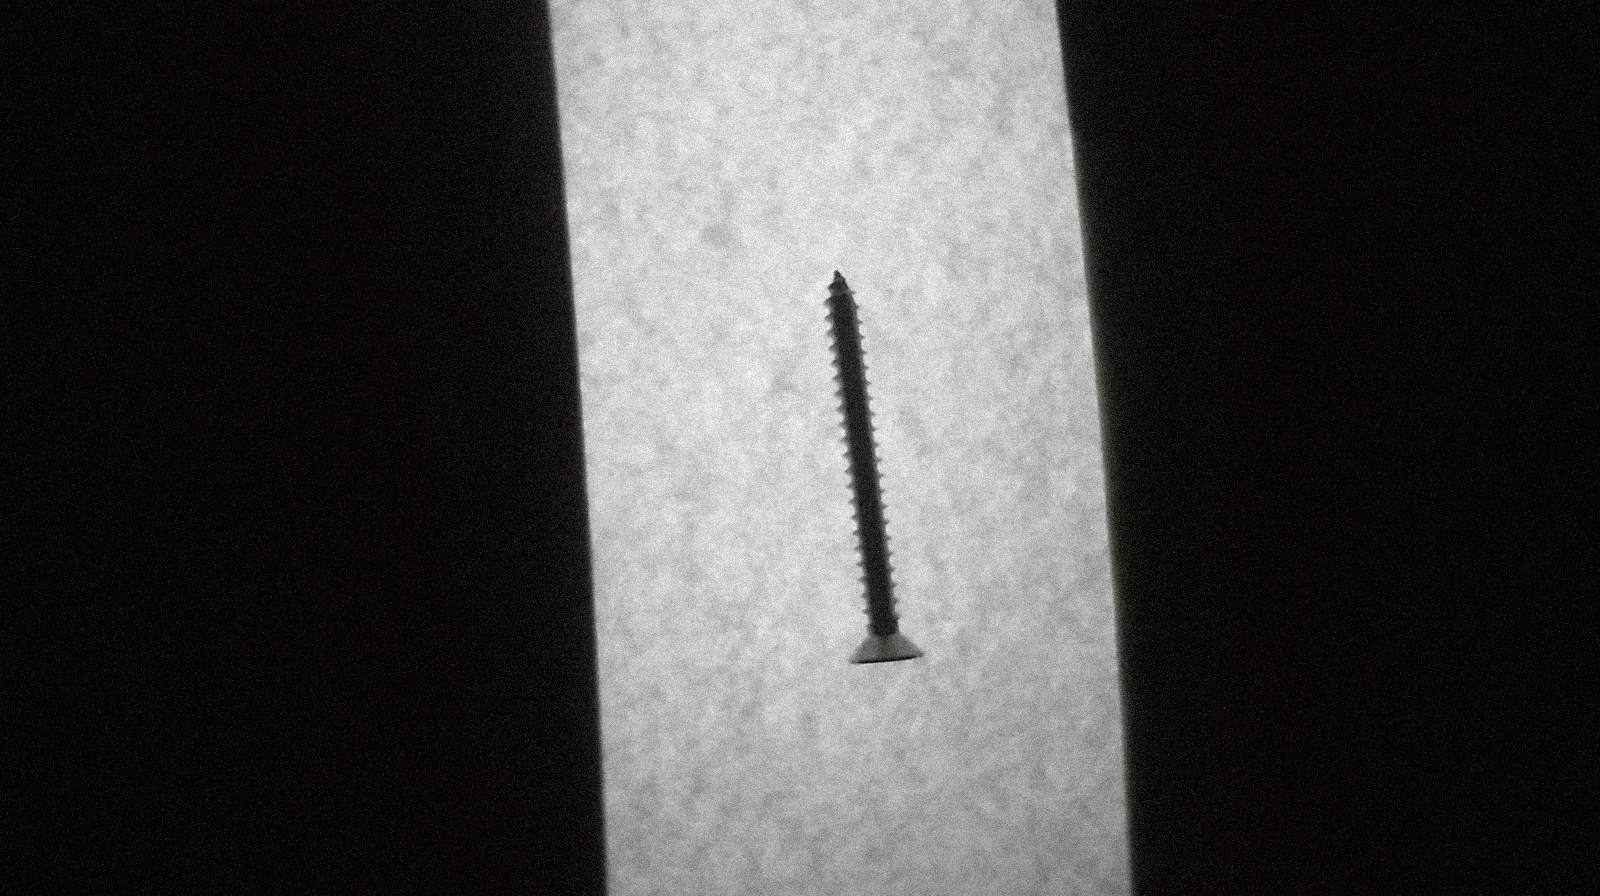S002: (812, 266, 938, 671)
